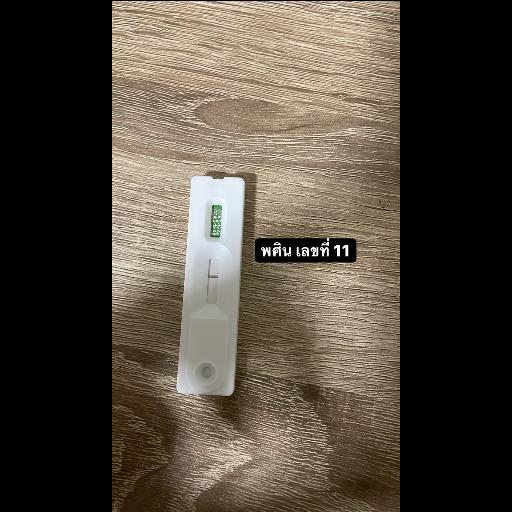Neg: (174, 175, 244, 397)
